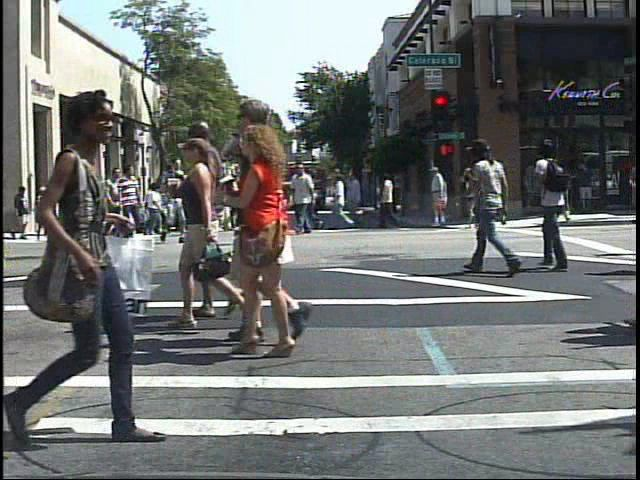person: (1, 81, 157, 452), (213, 92, 316, 345), (222, 119, 323, 364), (529, 133, 584, 277), (467, 130, 518, 279), (53, 165, 83, 246), (113, 161, 142, 244), (425, 160, 456, 232), (164, 156, 188, 247), (101, 163, 128, 242), (31, 184, 56, 244), (89, 182, 109, 222)
